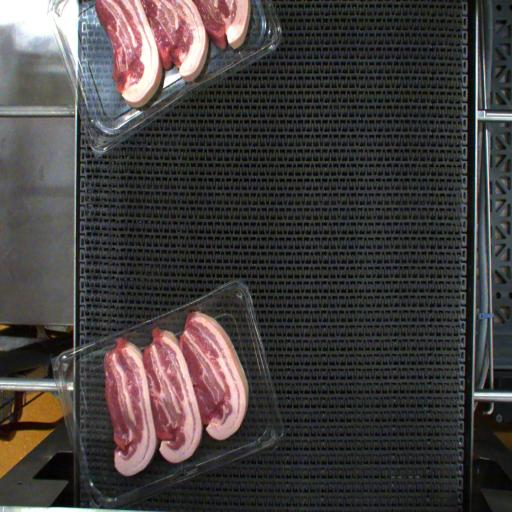packaging-error: (181, 294, 204, 322), (109, 326, 130, 346)
